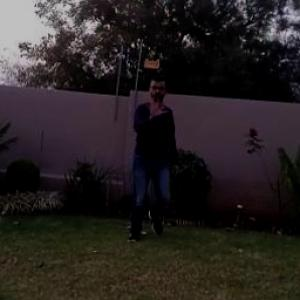follow_hand: (143, 92, 168, 120)
